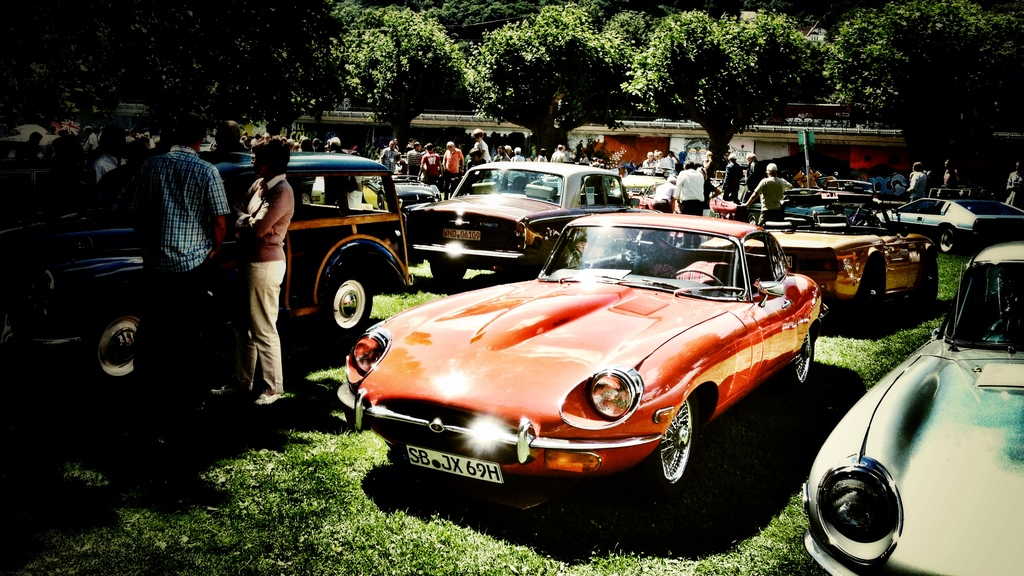Car: (0, 122, 1023, 575)
